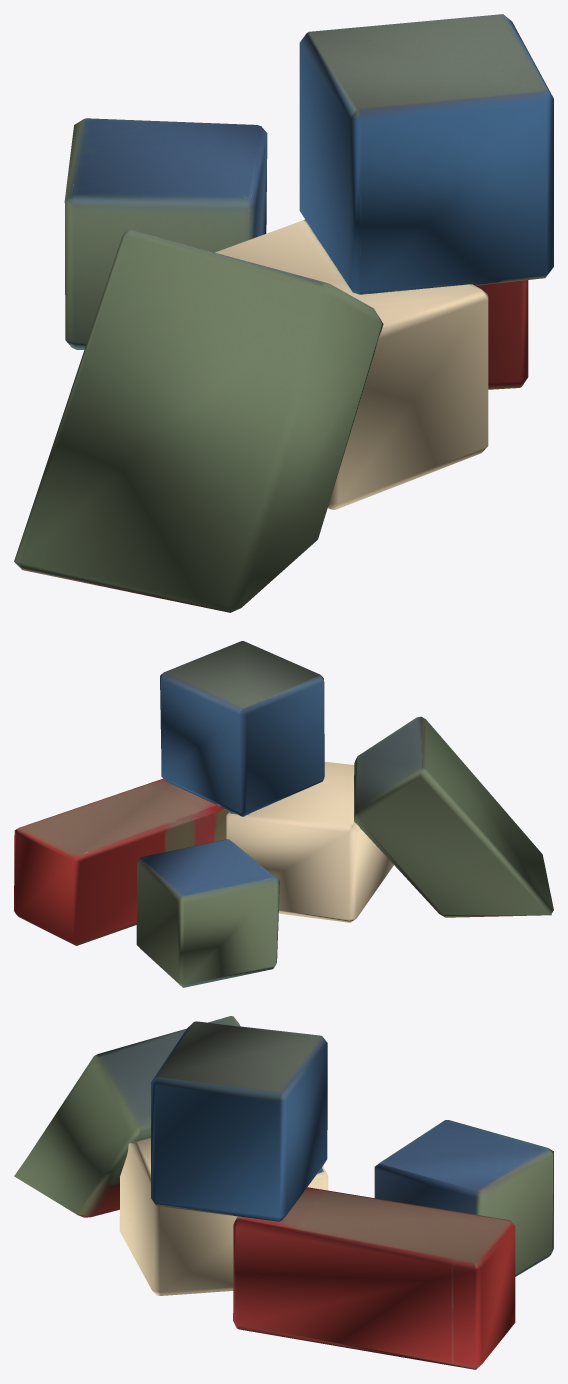
The model's file is toy_blocks.fbx.
3 renders of one model, top to bottom at view 1: azimuth 30°, elevation 25°; view 2: azimuth 150°, elevation 25°; view 3: azimuth 270°, elevation 25°, orthographic. The views are drawn at different scales.
Parts seen in each view (by area): view 1: Mesh_0; view 2: Mesh_0; view 3: Mesh_0.
Boxes of the visible parts, bbox=[...] form: Mesh_0: bbox=[14, 14, 553, 612]; Mesh_0: bbox=[14, 641, 553, 987]; Mesh_0: bbox=[14, 1016, 553, 1369].
Bounding box in the file's own units: 95.36 × 45.56 × 92.29.
1 material, 1 textured.
